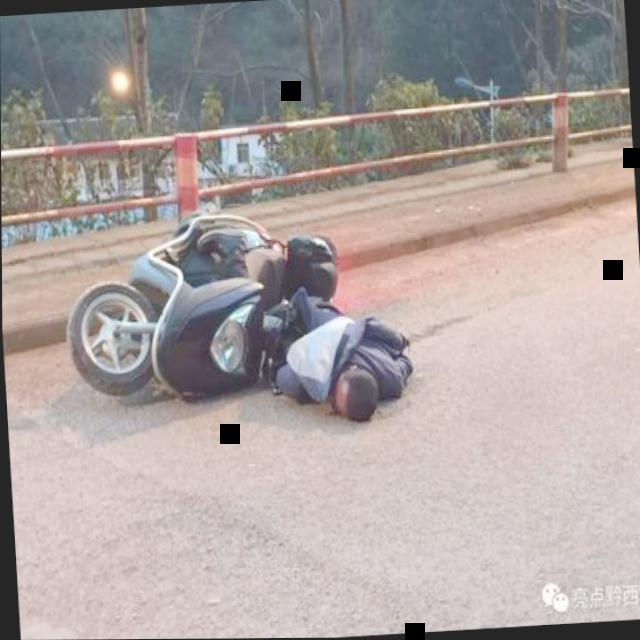Fall-Detected: (254, 270, 421, 439)
